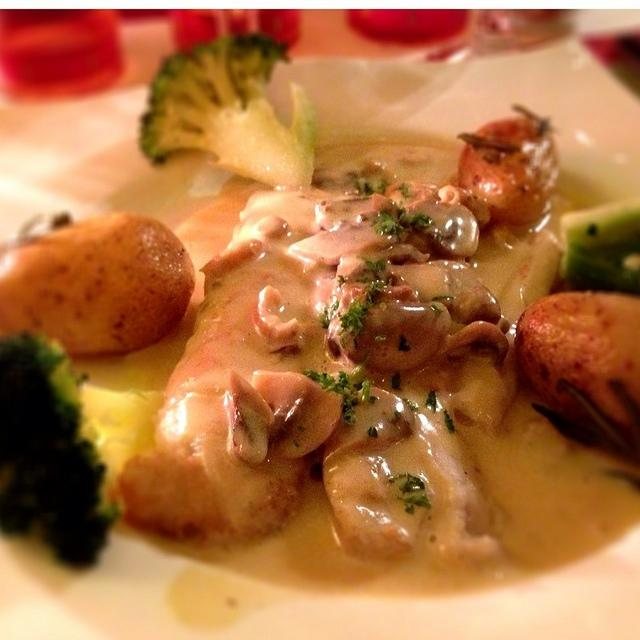broccoli: (0, 328, 164, 570), (141, 34, 318, 188), (559, 194, 640, 292), (352, 178, 392, 200), (373, 210, 404, 234), (342, 397, 359, 425)
mushroom: (253, 370, 343, 458), (322, 386, 417, 468), (355, 303, 443, 374), (290, 210, 400, 266), (426, 260, 501, 324), (230, 370, 276, 463), (407, 198, 479, 257), (438, 320, 509, 368), (315, 195, 373, 231)
potato: (0, 214, 195, 360), (515, 292, 640, 464), (458, 117, 560, 226)
